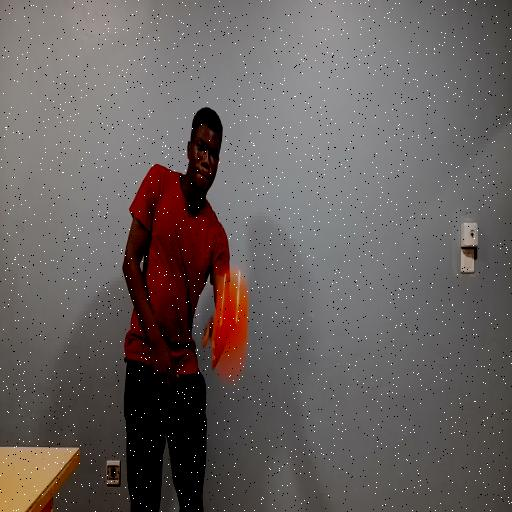plastic-ball: (204, 256, 256, 393)
